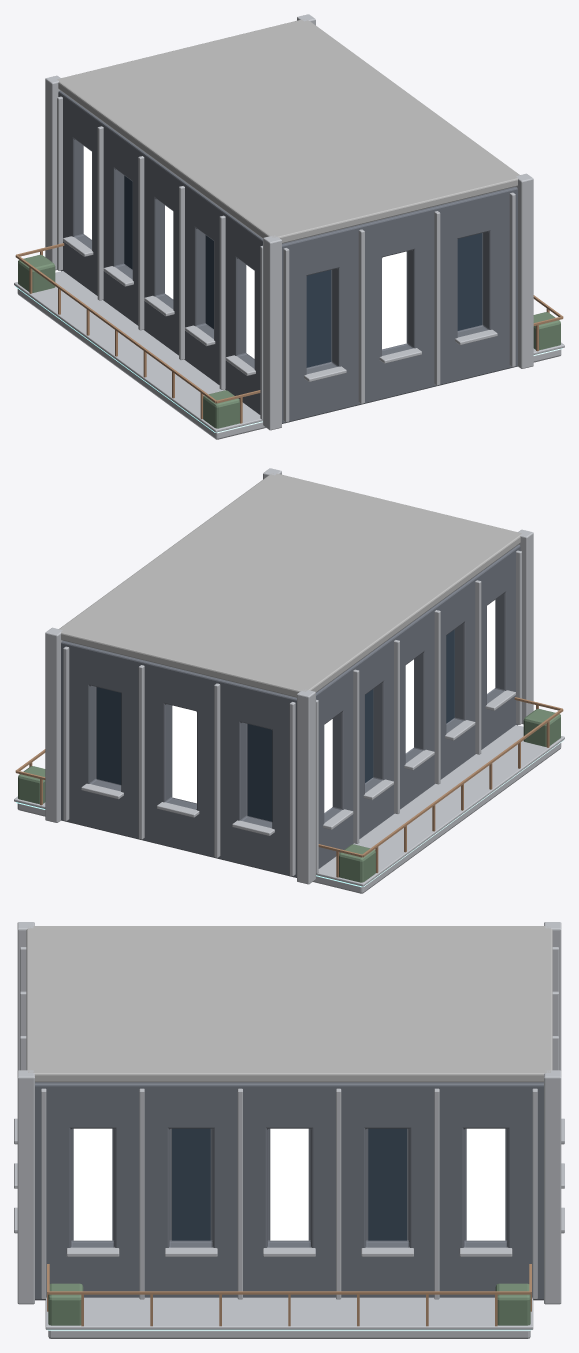
File: transfer_5x5_4x6_office.glb
The picture shows the model from 3 angles, top to bottom: view 1: azimuth 30°, elevation 25°; view 2: azimuth 150°, elevation 25°; view 3: azimuth 270°, elevation 25°; orthographic projection. The views are drawn at different scales.
Visible parts, largest first — view 1: ext_wall, int_ceiling, ext_frames, int_columns, int_slab_edge, ext_panes_dark, ext_panes_lit, ext_deck_plants, ext_deck_rail, int_slab; view 2: ext_wall, int_ceiling, ext_frames, int_columns, int_slab_edge, ext_panes_dark, ext_panes_lit, ext_deck_plants, ext_deck_rail, int_slab; view 3: int_ceiling, ext_wall, int_slab_edge, ext_panes_lit, ext_frames, int_columns, ext_panes_dark, int_slab, ext_deck_rail, ext_deck_plants, ext_deck_glow.
Part boxes in pixels (bbox=[...]): ext_wall: bbox=[58, 90, 517, 423]; int_ceiling: bbox=[57, 19, 519, 243]; ext_frames: bbox=[57, 96, 515, 422]; int_columns: bbox=[45, 14, 533, 430]; int_slab_edge: bbox=[14, 271, 564, 432]; ext_panes_dark: bbox=[124, 175, 482, 367]; ext_panes_lit: bbox=[83, 146, 406, 358]; ext_deck_plants: bbox=[18, 254, 560, 428]; ext_deck_rail: bbox=[15, 243, 563, 423]; int_slab: bbox=[17, 289, 561, 439]; ext_wall: bbox=[61, 544, 520, 877]; int_ceiling: bbox=[59, 473, 521, 697]; ext_frames: bbox=[63, 550, 521, 876]; int_columns: bbox=[45, 468, 533, 884]; int_slab_edge: bbox=[14, 725, 564, 886]; ext_panes_dark: bbox=[96, 629, 454, 821]; ext_panes_lit: bbox=[172, 600, 495, 812]; ext_deck_plants: bbox=[18, 708, 560, 882]; ext_deck_rail: bbox=[15, 697, 563, 877]; int_slab: bbox=[17, 743, 561, 893]; int_ceiling: bbox=[26, 926, 552, 1082]; ext_wall: bbox=[35, 1082, 543, 1300]; int_slab_edge: bbox=[45, 1297, 533, 1329]; ext_panes_lit: bbox=[73, 1128, 505, 1240]; ext_frames: bbox=[14, 947, 564, 1299]; int_columns: bbox=[17, 922, 561, 1304]; ext_panes_dark: bbox=[172, 1128, 406, 1240]; int_slab: bbox=[48, 1330, 530, 1338]; ext_deck_rail: bbox=[47, 1264, 531, 1326]; ext_deck_plants: bbox=[48, 1283, 530, 1325]; ext_deck_glow: bbox=[46, 1329, 532, 1330].
Bounding box in the file's own units: 5.56 × 3 × 6.28.
